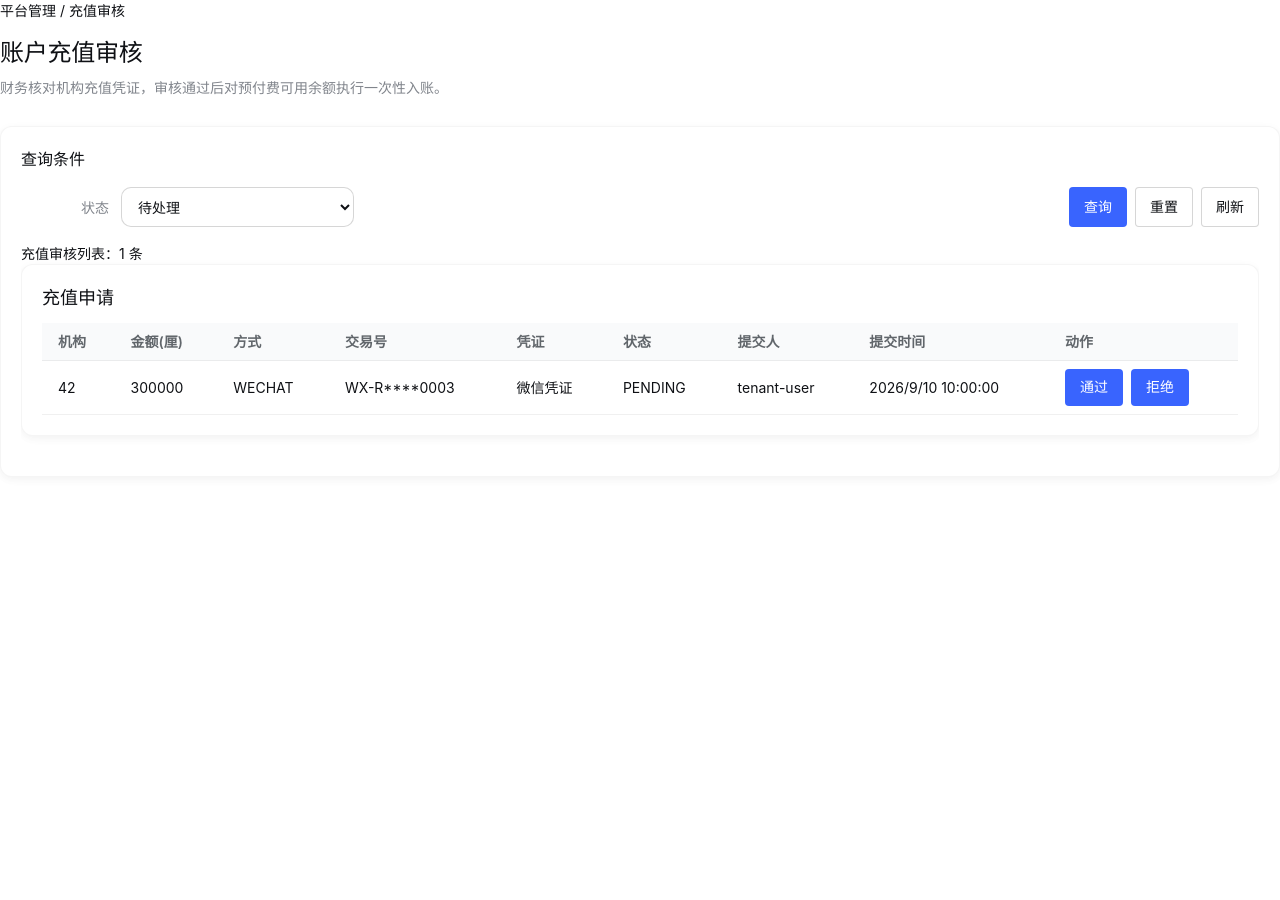
Phase 36 tenant recharge operations UI › finance approves or rejects recharge requests from the review page
Expected: the element with test id "admin-tenant-recharge-operations-review-table" is shown, left=21, top=264, right=1259, bottom=436
Expected: the row with test id "admin-tenant-recharge-operations-review-row" shows "WX-R****0003", left=345, top=379, right=455, bottom=396
Click the button with test id "admin-tenant-recharge-operations-review-approve".
click(1094, 387)  # box left=1065, top=369, right=1123, bottom=406
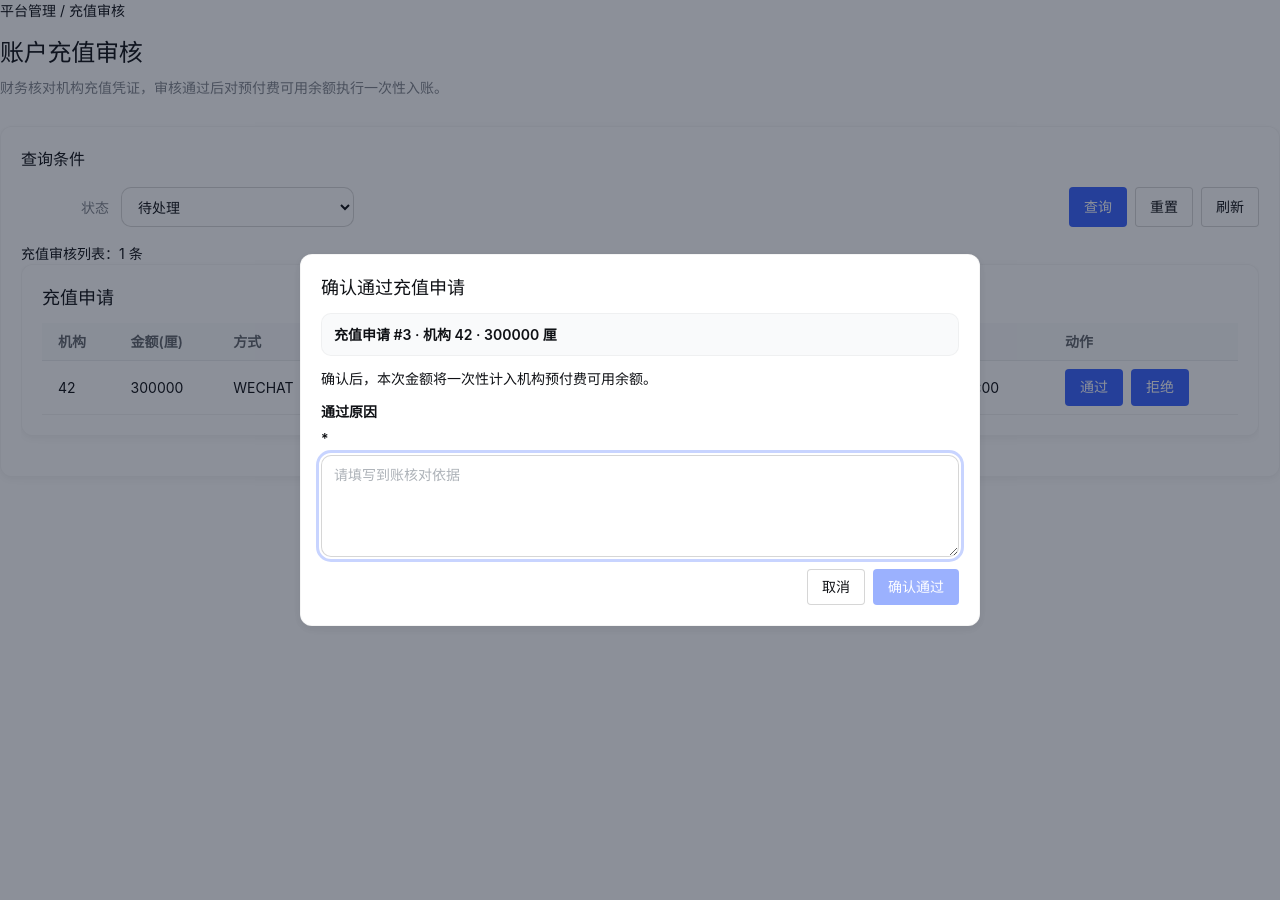
Expected: the text with test id "admin-tenant-recharge-operations-review-action-target" shows "机构 42", left=334, top=326, right=557, bottom=343
Expected: the button with test id "admin-tenant-recharge-operations-review-action-confirm" is disabled, left=873, top=569, right=959, bottom=605
Type "到账一致" into the text box with test id "admin-tenant-recharge-operations-review-reason".
click(640, 506); type("到账一致")  # box left=321, top=455, right=959, bottom=557
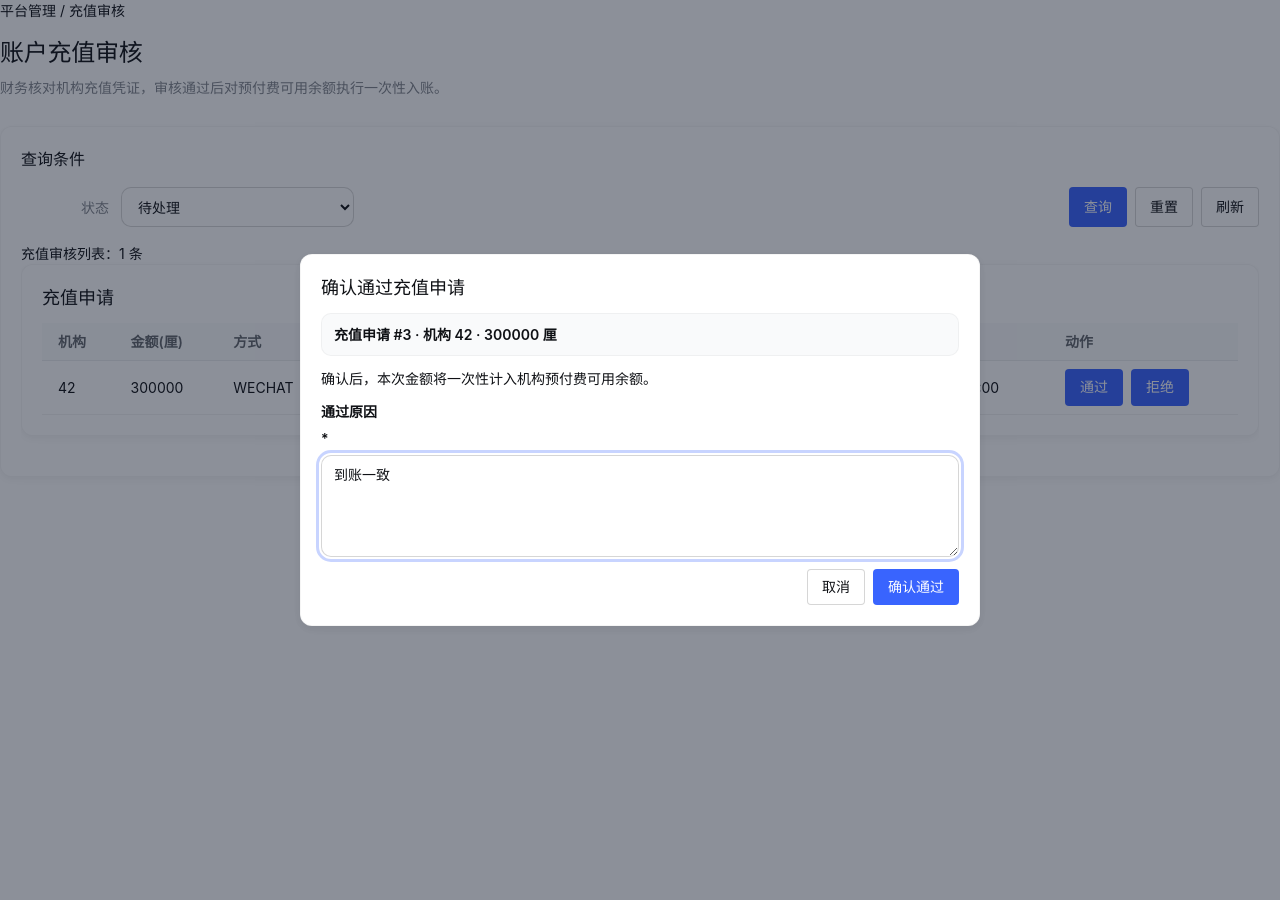
Click the button with test id "admin-tenant-recharge-operations-review-action-confirm".
click(916, 587)  # box left=873, top=569, right=959, bottom=605
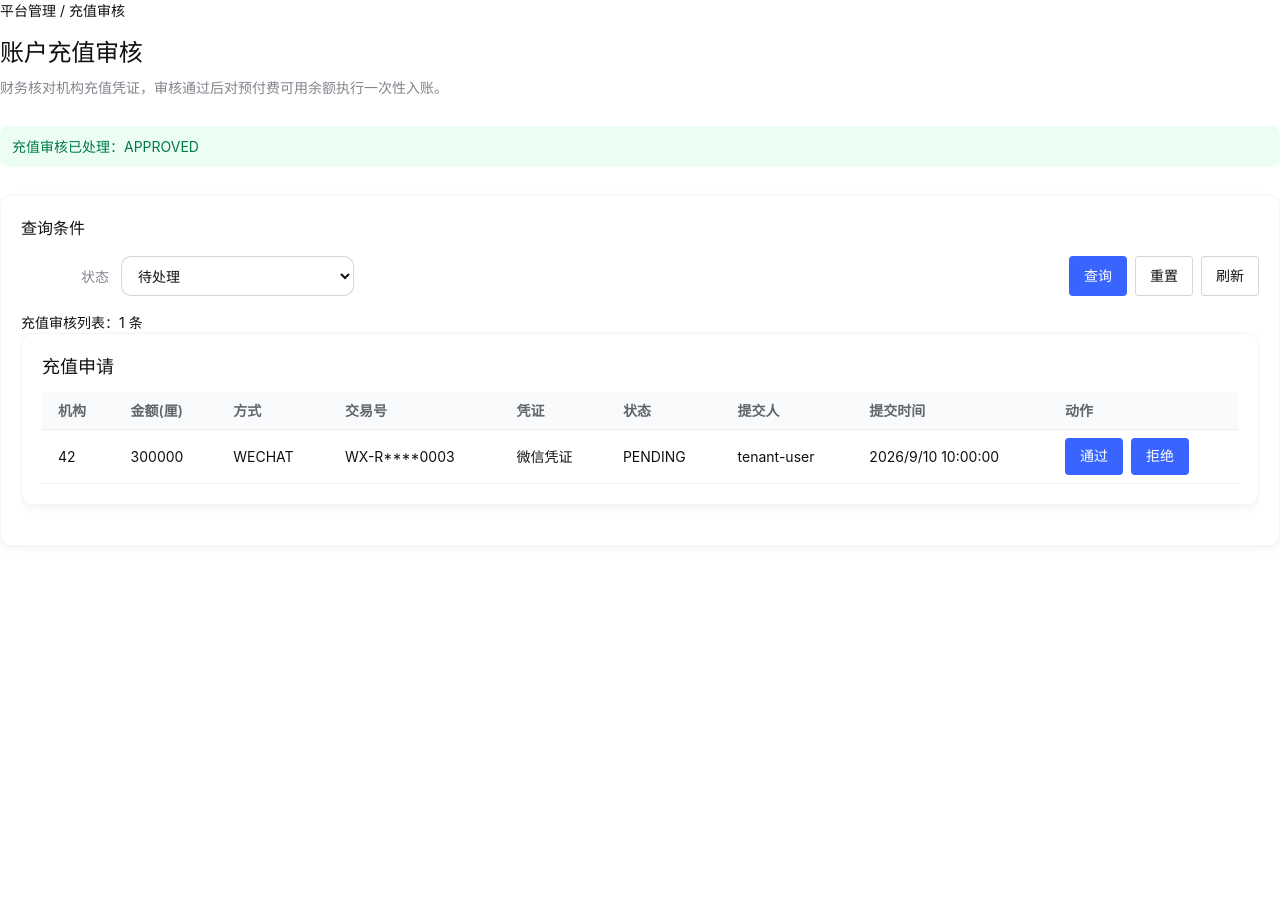
Expected: the message with test id "admin-tenant-recharge-operations-review-message" shows "APPROVED", left=12, top=138, right=199, bottom=155
